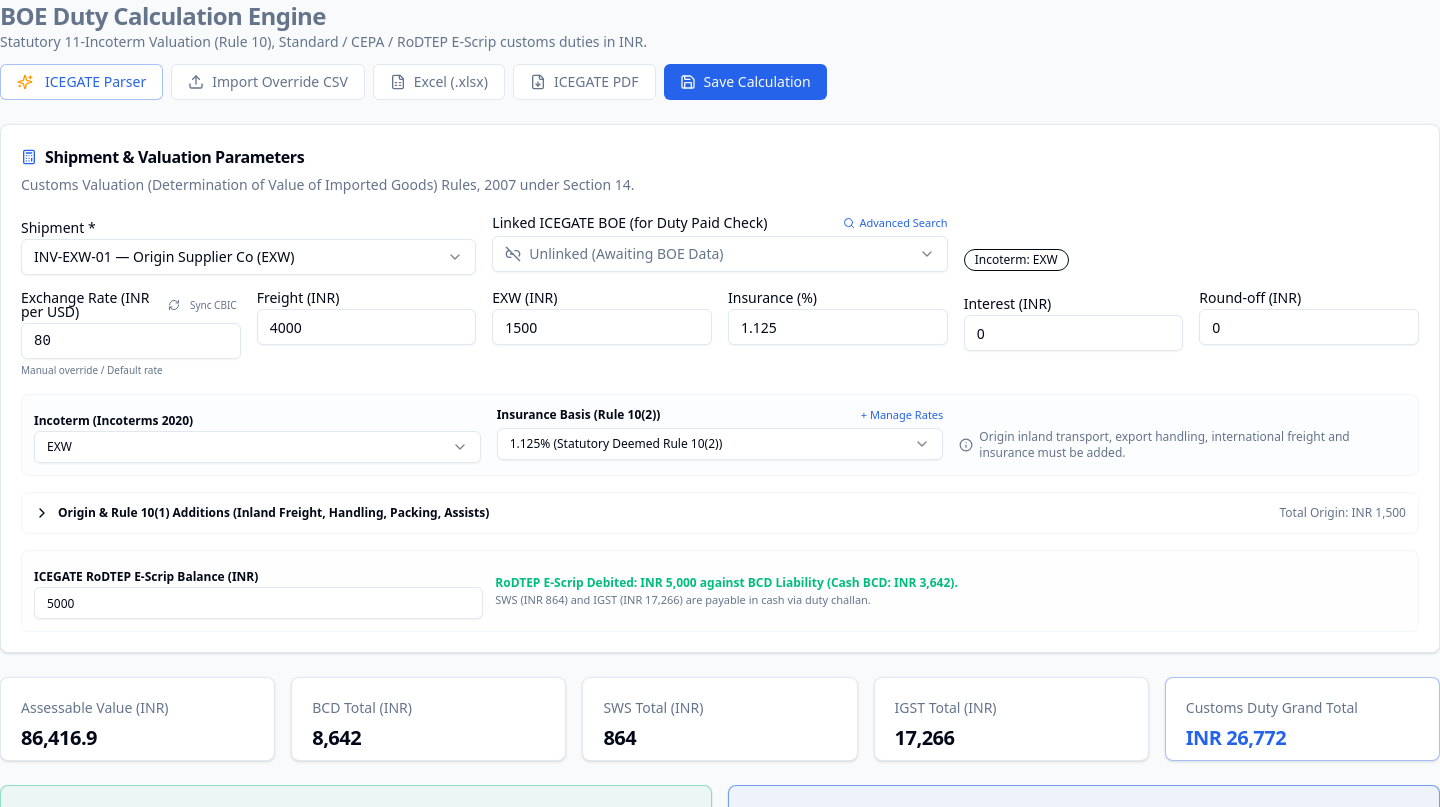
Test: Stage 6: BOE Registry & Duty Calculation Engine › renders 11 Incoterm valuation rules, statutory insurance basis, and RoDTEP scrip debiting cleanly
Expected: the text "Incoterm: EXW" is shown, [964,249,1069,271]
Expected: the number field labelled "Freight (INR)" is enabled, [257,309,476,345]
Click the button "+ Manage Rates". click: (902, 415)
box: [861,407,943,424]
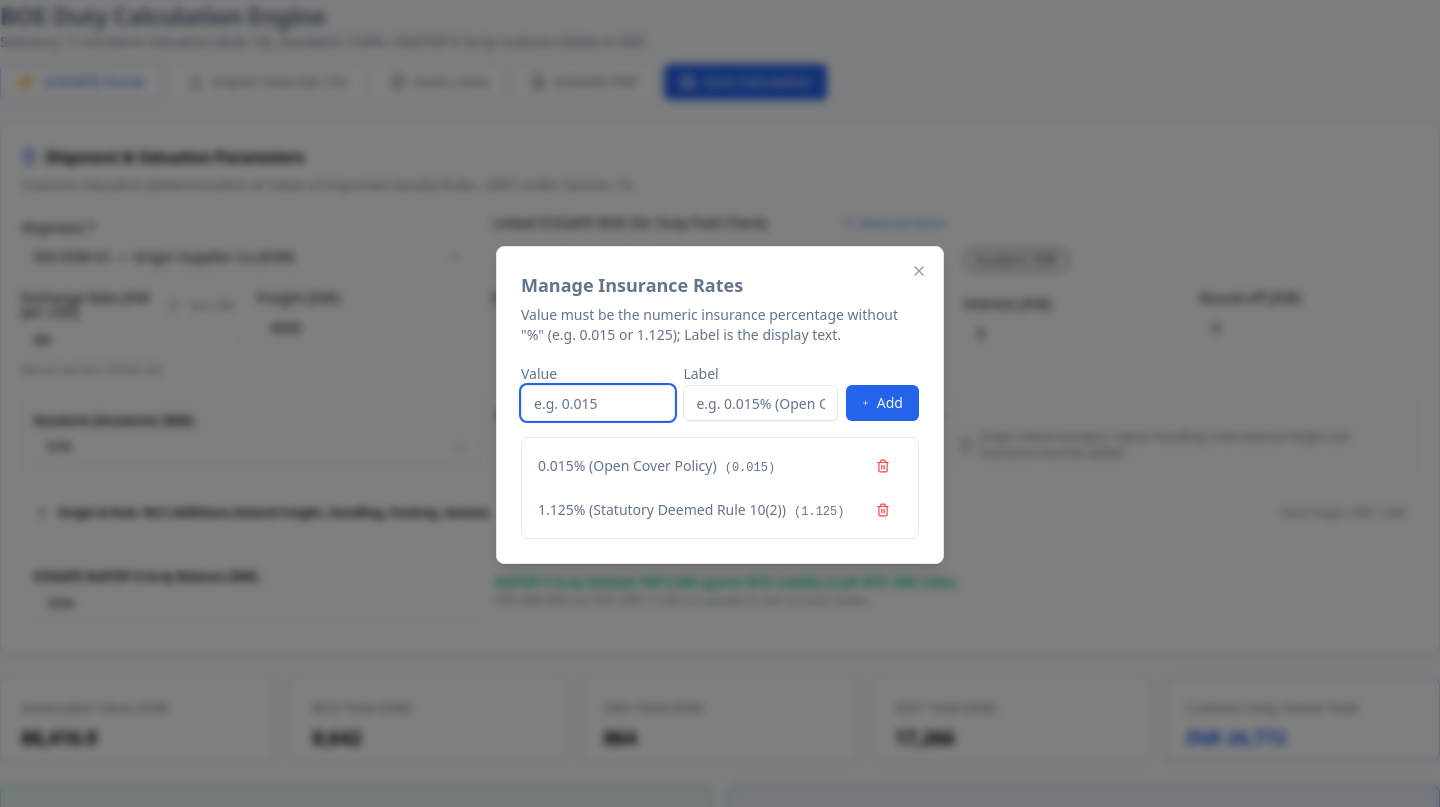
Expected: the heading "Manage Insurance Rates" is shown, [521,273,743,297]
